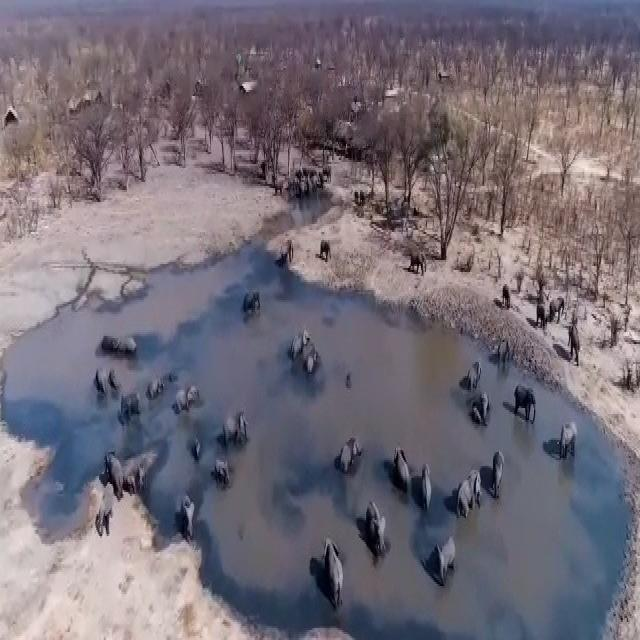Elephant: (452, 461, 484, 522), (423, 533, 464, 579), (507, 380, 542, 430), (322, 540, 348, 607), (87, 488, 120, 540), (174, 498, 204, 554), (175, 382, 208, 426), (364, 503, 388, 563), (473, 388, 496, 442), (388, 452, 416, 496), (338, 428, 363, 476), (103, 333, 147, 360), (90, 369, 111, 425), (151, 372, 175, 421), (286, 311, 308, 362), (220, 412, 258, 441), (567, 329, 588, 373), (120, 391, 146, 426), (493, 451, 512, 498), (109, 450, 127, 498), (306, 339, 325, 383), (561, 422, 581, 461), (404, 247, 428, 279), (210, 453, 231, 488), (188, 436, 205, 478), (420, 467, 436, 510), (317, 238, 337, 271), (469, 354, 485, 394), (244, 285, 262, 319), (550, 290, 566, 326), (282, 240, 295, 271), (502, 282, 511, 313), (539, 303, 546, 331)
